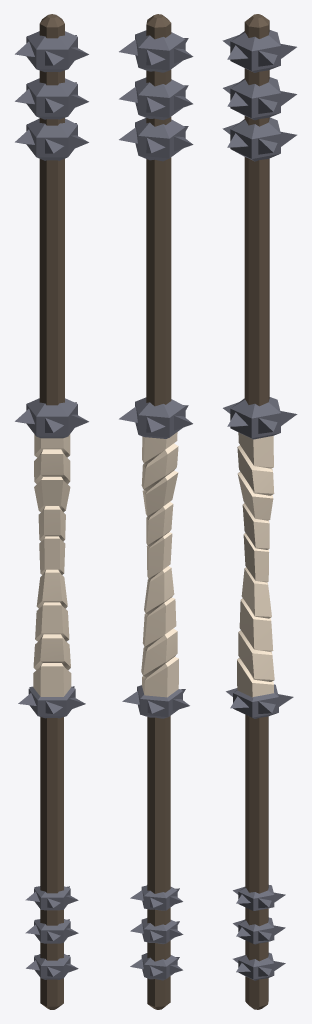
Rendered from _BATON.fbx.
The picture shows the model from 3 angles, left to right: view 1: azimuth 90°, elevation 25°; view 2: azimuth 150°, elevation 25°; view 3: azimuth 330°, elevation 25°; orthographic projection.
Visible parts, largest first — view 1: BATON; view 2: BATON; view 3: BATON.
Part boxes in pixels (x1,y1,x2,y2): BATON: [15, 14, 88, 1009]; BATON: [119, 14, 193, 1009]; BATON: [222, 14, 297, 1009].
Size of the model in its own units: 13.52 by 204 by 13.98.
